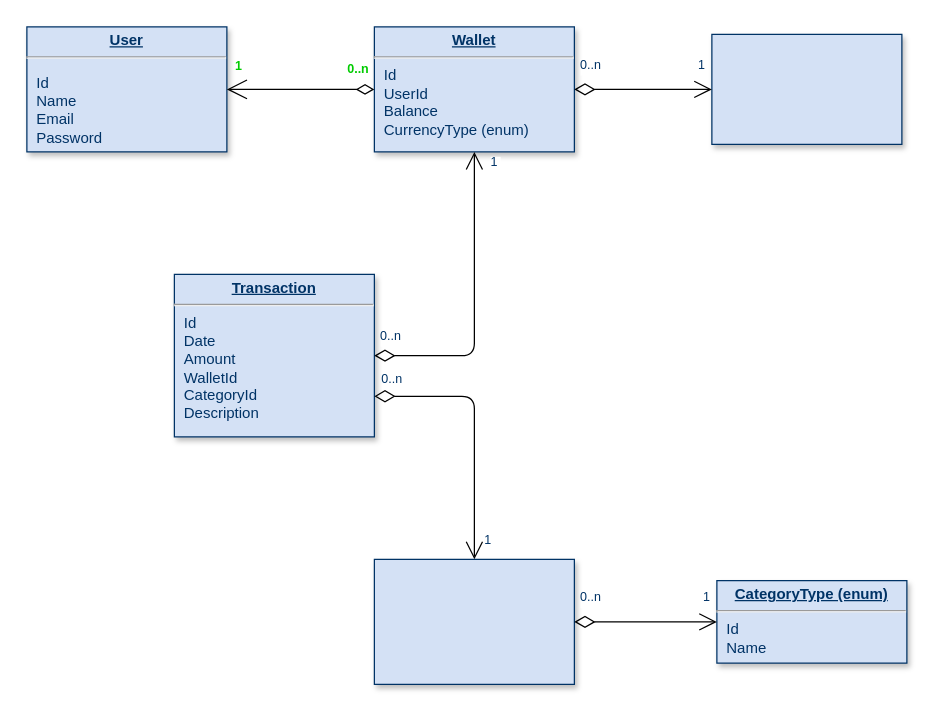
Some shapes in this 936 by 715 pixel diagram are drawn without their labels. The centre of each missing label's shape, as x and y in pixels:
"Category Id Name CategoryType (enum)" goes at point 475,623.
"CurrencyType (enum) Id Name Description" goes at point 807,90.
